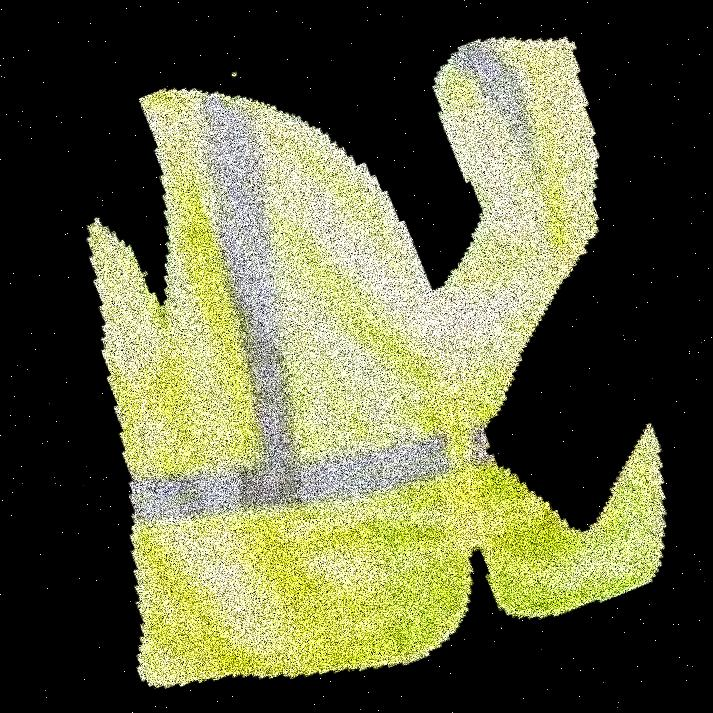Colete: (177, 0, 456, 712)
